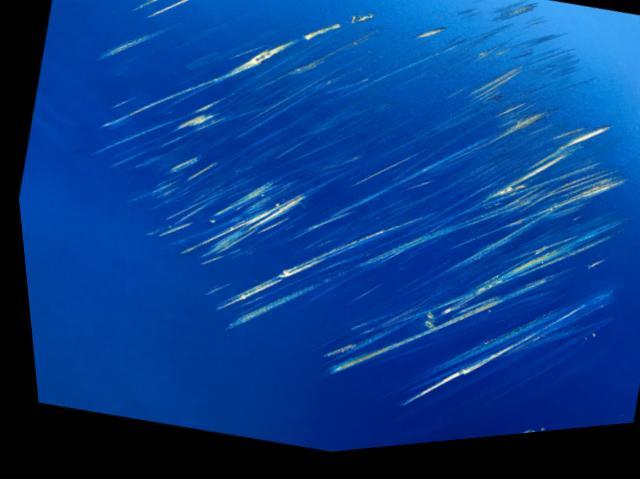scratch: (86, 0, 624, 451)
